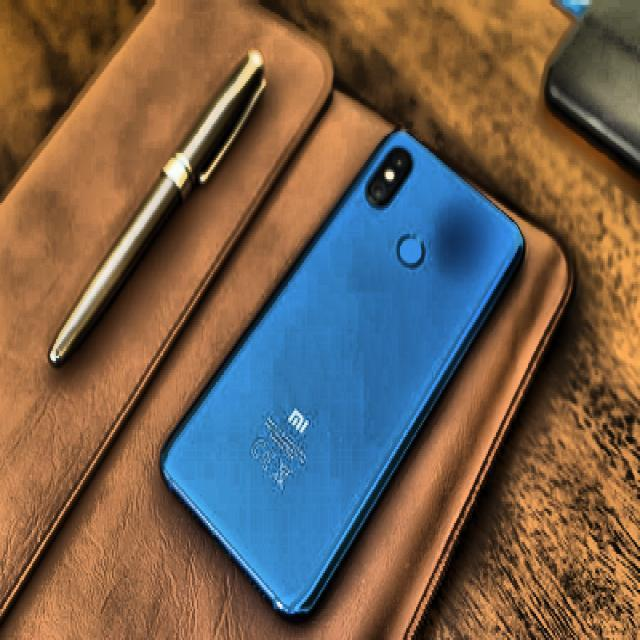Phone: (155, 126, 525, 624)
